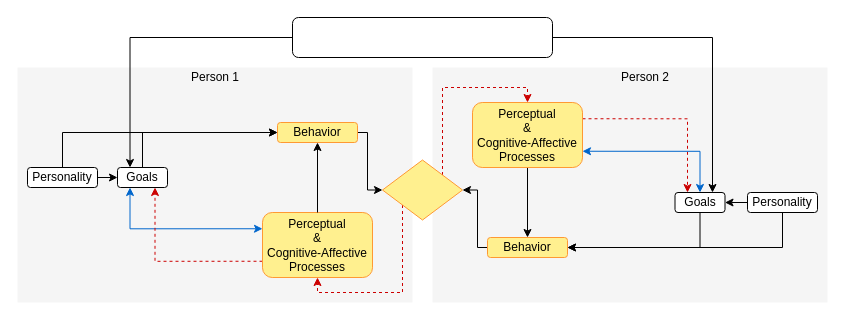
Image size: 844x320. Some labels were removed from this diagram. The shapes that lost their labels are listed below. From the top down, each one's box as (x1, y1, x2, y2) in pixels, then its label:
(292, 16, 552, 58): Social Environment Settings Design, Physical Features, Social Norms
(382, 159, 462, 220): Interaction
